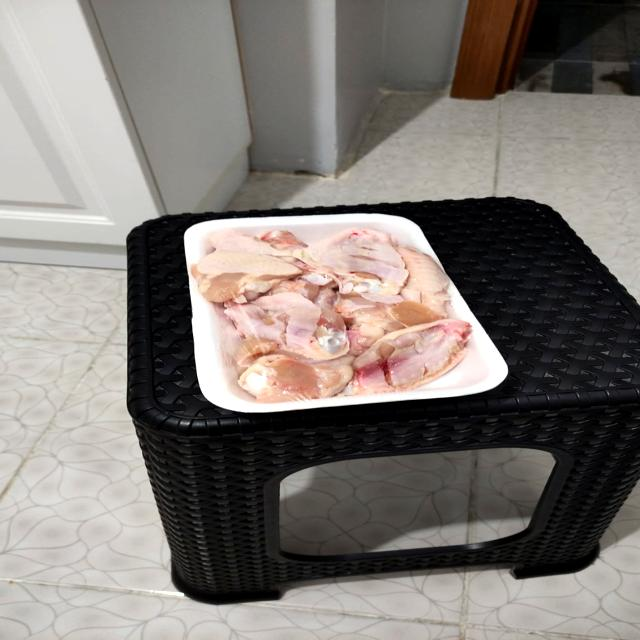chicken: (182, 207, 488, 403)
